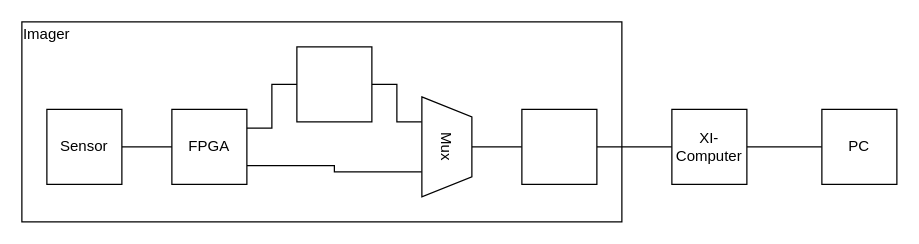
Some shapes in this 919 by 244 pixel diagram are drawn without their labels. The box of each missing label's shape, as (x1, y1, x2, y2) in pixels:
LWL-Modul: (521, 108, 597, 184)
SerDes: (296, 46, 372, 122)
